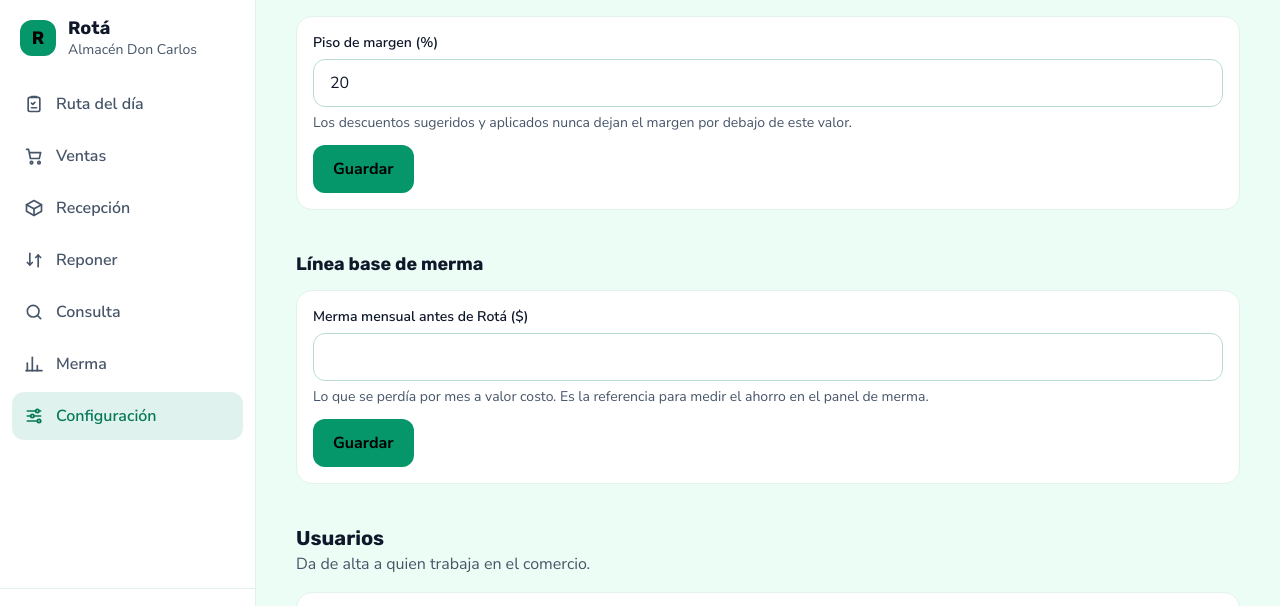
Línea base de merma (HU-26) › el dueño carga la merma mensual que tenía antes de Rotá
(page scrolled)
Type "45000" into the field labelled "Merma mensual antes de Rotá ($)" at (768, 357), box [313,333,1223,381]
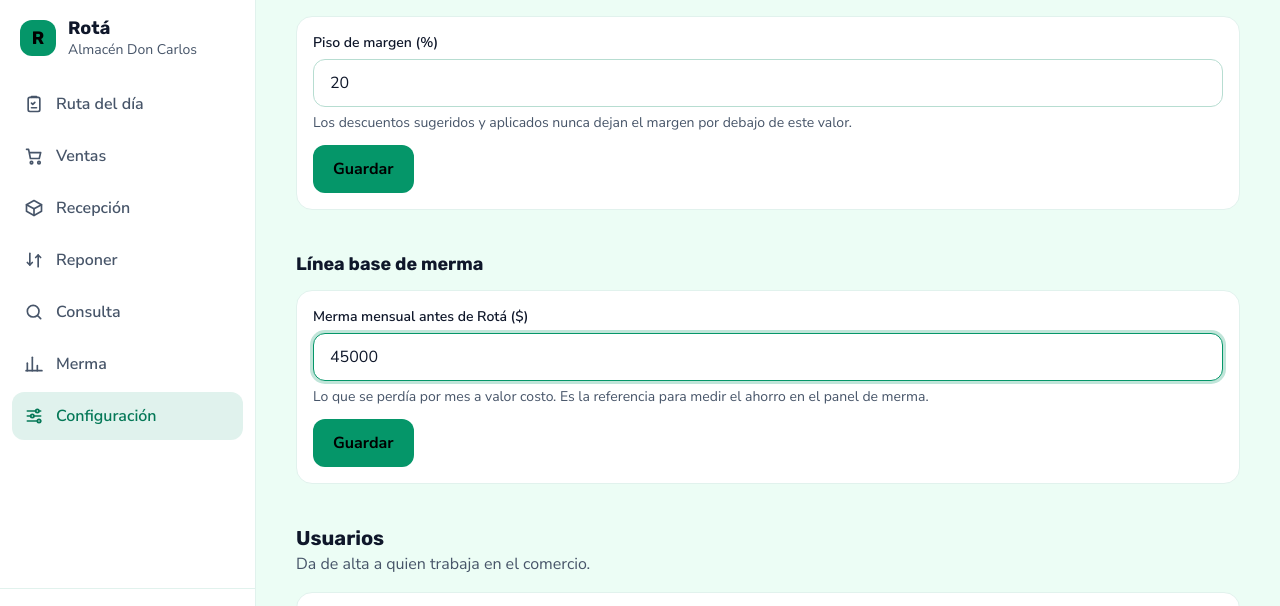
Click the button "Guardar" below "Merma mensual antes de Rotá ($)" at (363, 443), box [313,419,414,467]
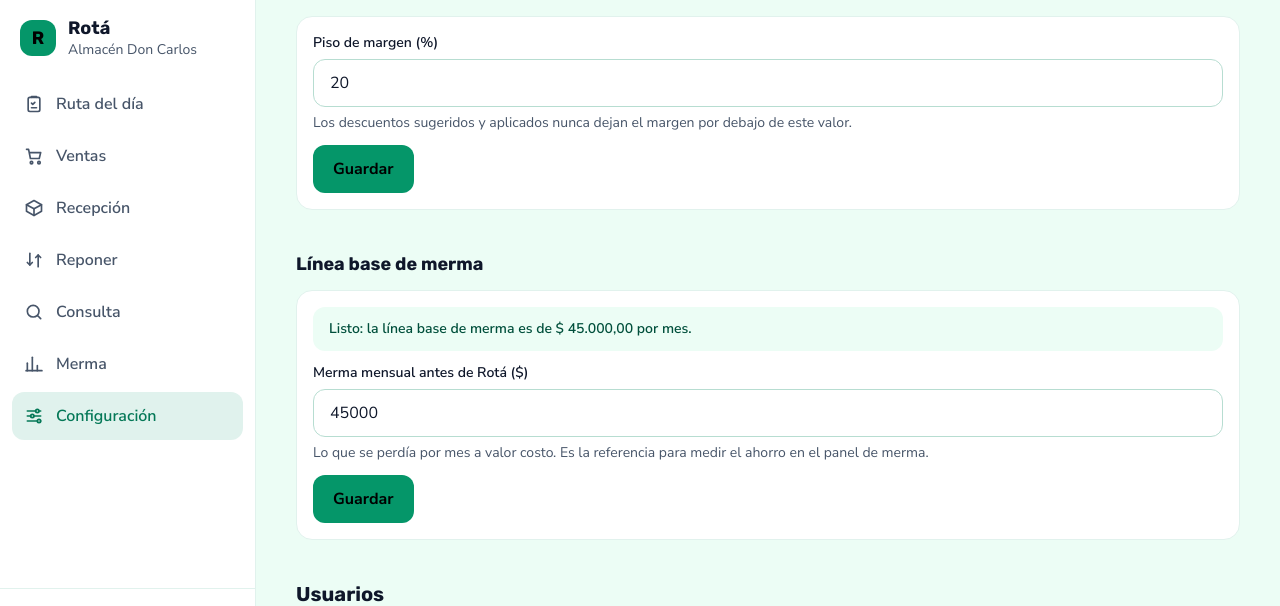
Check: the text "Listo: la línea base de merma es de $ 45.000,00 por mes." is shown, box [313,307,1223,351]
